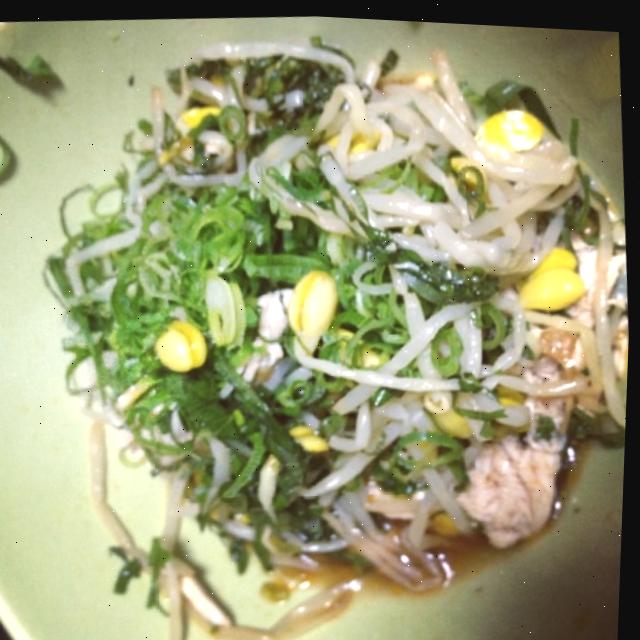炸货点心: (0, 135, 438, 640)
鸡肉料理 含炸鸡: (103, 5, 622, 548)
